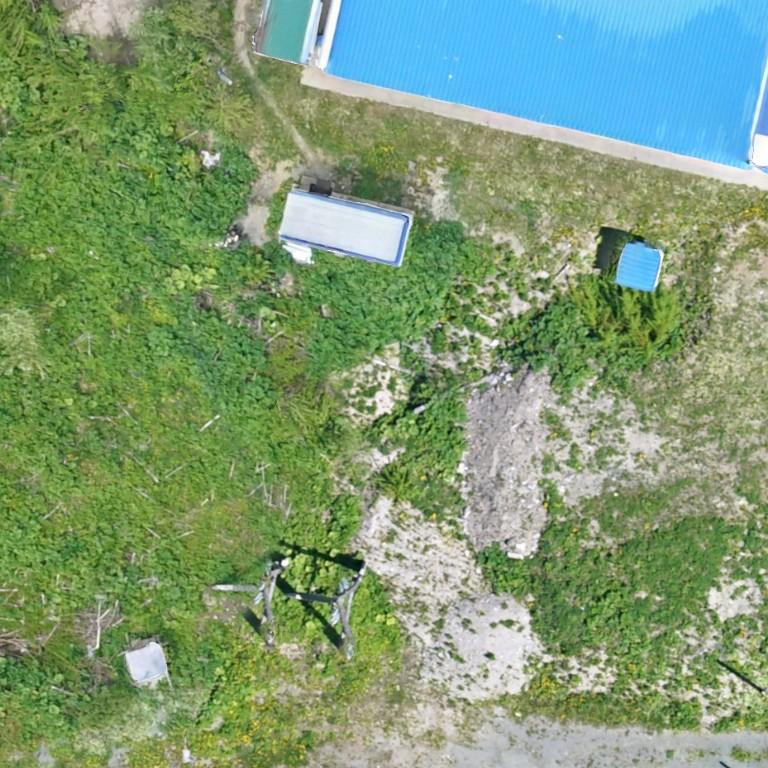hogweed: (307, 221, 490, 372), (147, 308, 270, 408), (507, 304, 637, 388), (163, 148, 258, 240), (403, 397, 467, 471)
